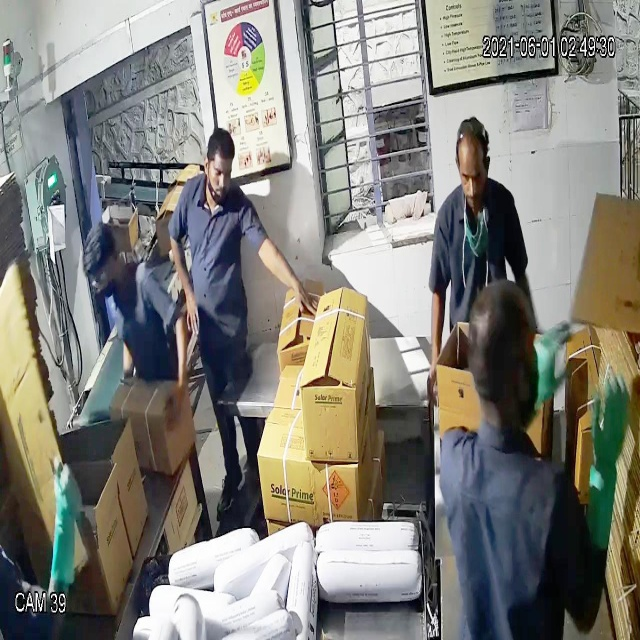Sin_gafas: (453, 156, 492, 194), (204, 158, 237, 187)
